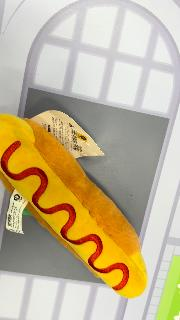hotdog: (0, 113, 148, 299)
